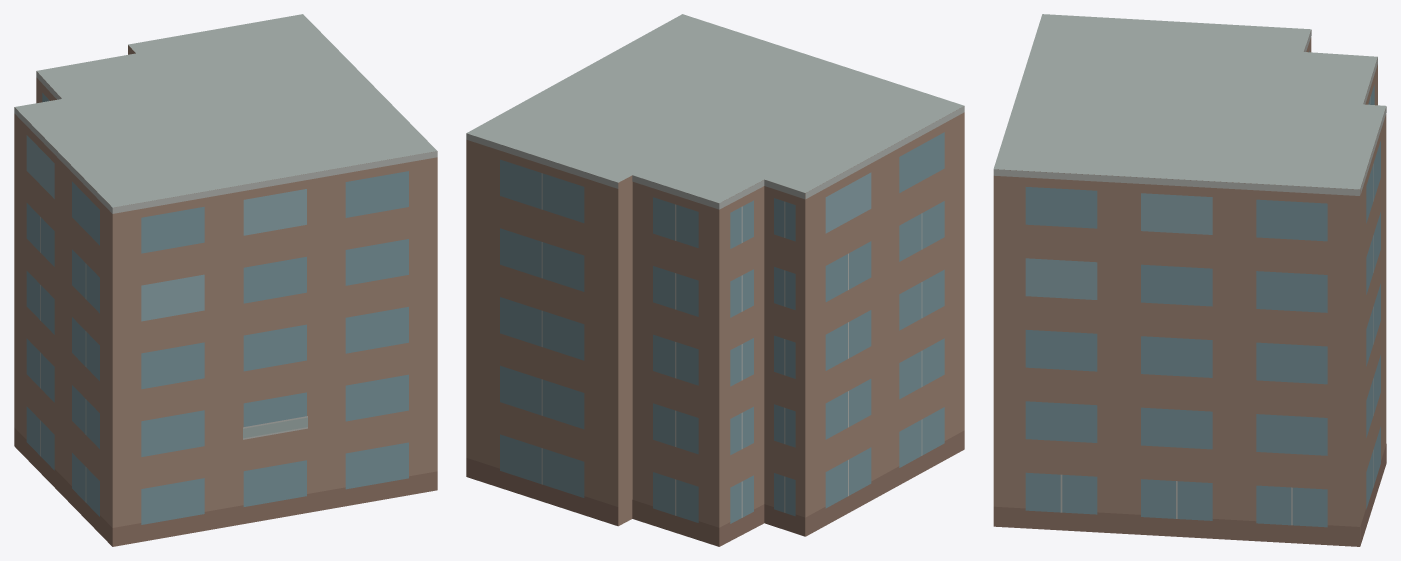
File: survey-upis-32996390.glb
The picture shows the model from 3 angles, left to right: view 1: azimuth 30°, elevation 25°; view 2: azimuth 150°, elevation 25°; view 3: azimuth 270°, elevation 25°; orthographic projection. The views are drawn at different scales.
Parts seen in each view (by area): view 1: survey-upis-32996390.tmp; view 2: survey-upis-32996390.tmp; view 3: survey-upis-32996390.tmp.
Boxes of the visible parts, left/top/right/bottom form: survey-upis-32996390.tmp: left=14, top=14, right=437, bottom=546; survey-upis-32996390.tmp: left=466, top=14, right=964, bottom=546; survey-upis-32996390.tmp: left=993, top=14, right=1386, bottom=546.
Size of the model in its own units: 13.91 by 13.2 by 13.16.
